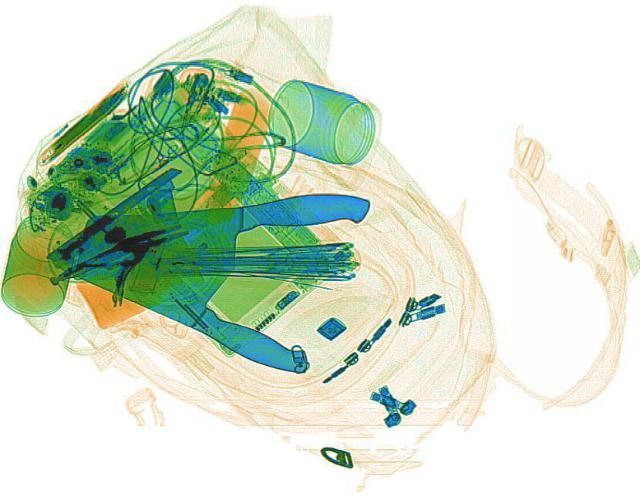Knife: (47, 208, 343, 384), (73, 189, 377, 281)
